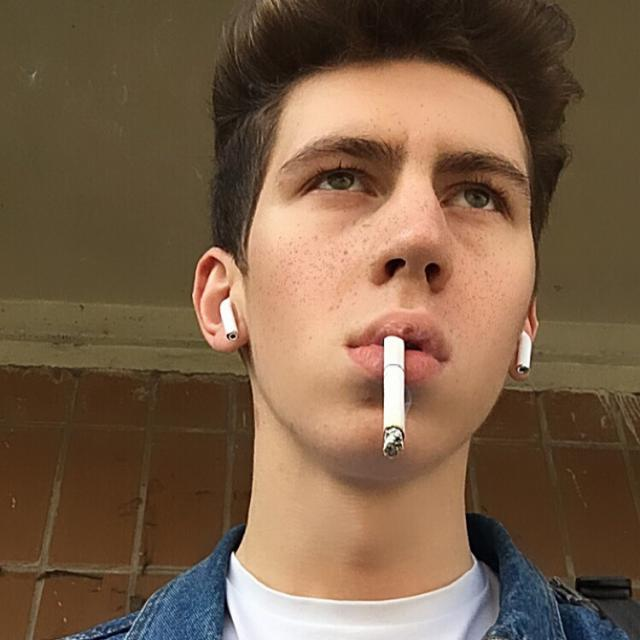smoke: (377, 334, 410, 459)
